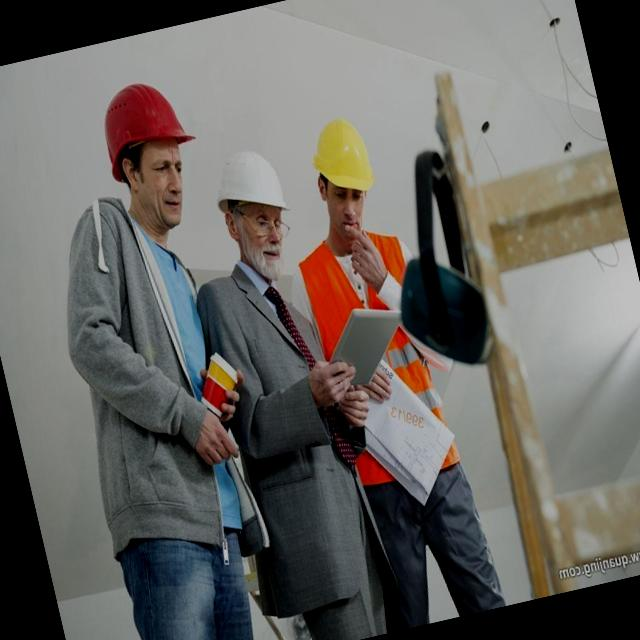helmet: (84, 76, 200, 190), (190, 133, 300, 245), (294, 109, 384, 214)
no-vest: (36, 221, 266, 568), (195, 274, 368, 580)
vest: (303, 232, 462, 498)
